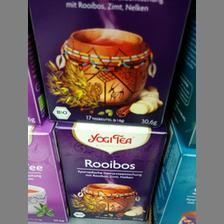Tee: (28, 0, 190, 124), (52, 121, 168, 223)
